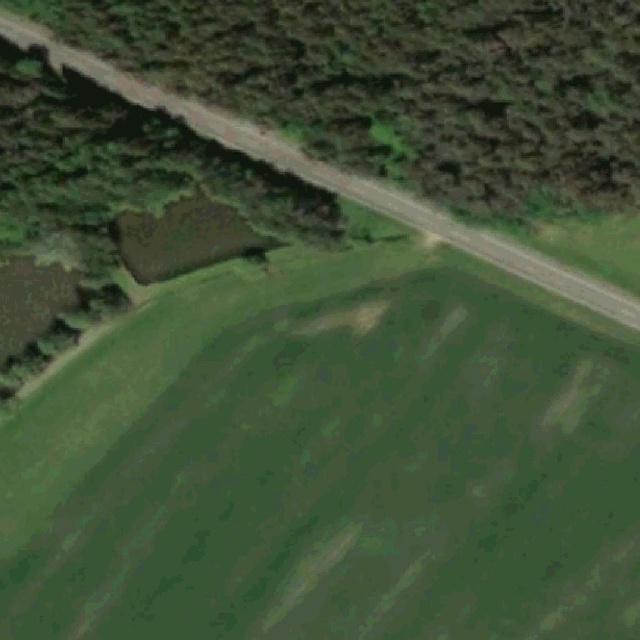vegetation: (0, 0, 640, 230), (0, 39, 357, 278), (0, 285, 135, 408)
